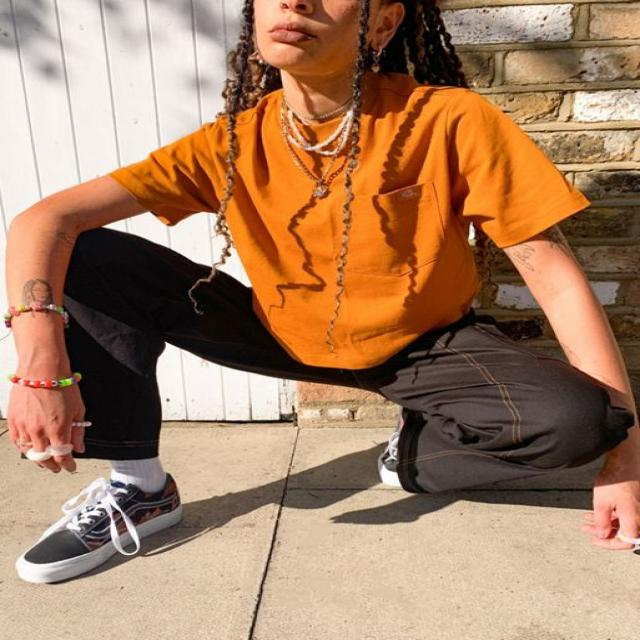tshirt: (106, 71, 590, 372)
